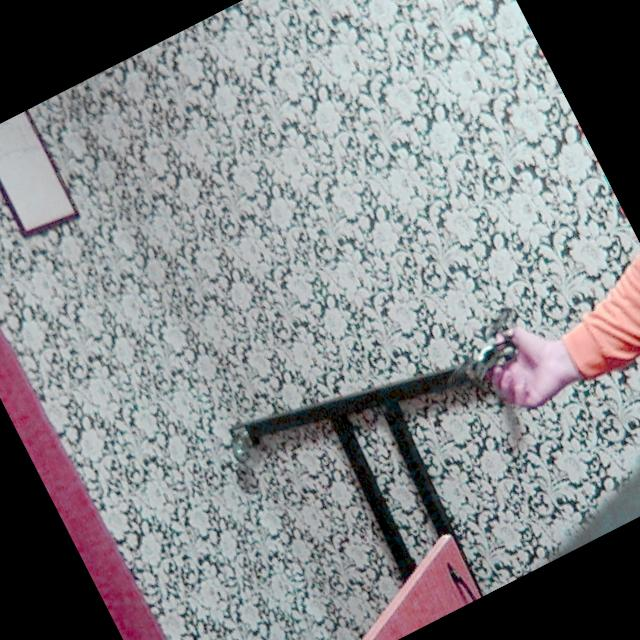drone: (428, 291, 545, 398)
